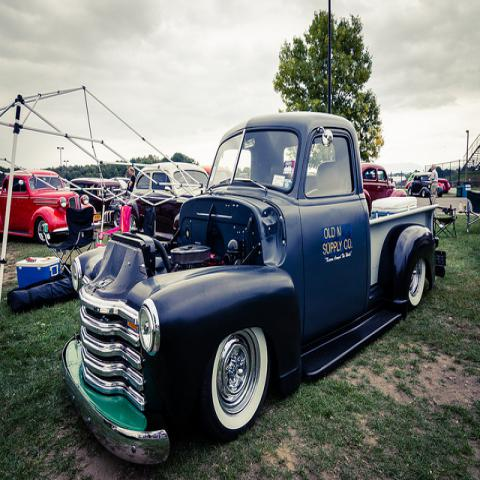car: (62, 109, 448, 465), (0, 171, 101, 243), (112, 192, 183, 238), (70, 178, 123, 228), (134, 160, 209, 194), (360, 163, 395, 216), (408, 173, 444, 197), (404, 178, 452, 194), (118, 180, 128, 195)
truck: (59, 0, 447, 466)
